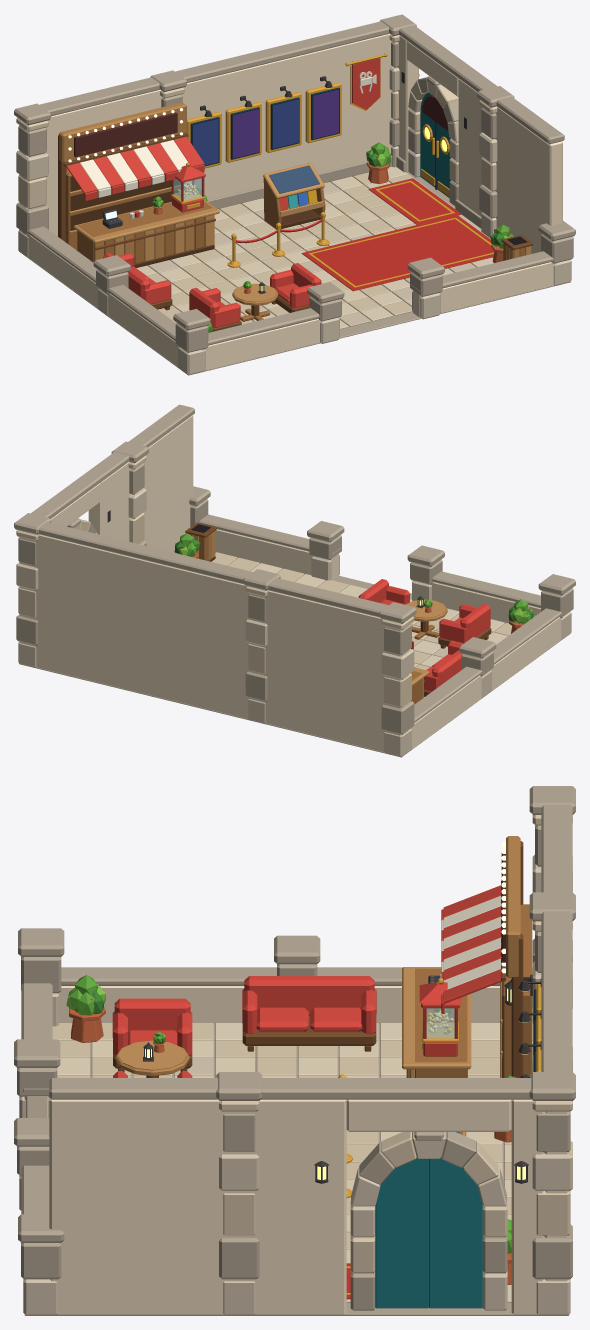
File: cinema_lobby.glb
The picture shows the model from 3 angles, top to bottom: view 1: azimuth 30°, elevation 25°; view 2: azimuth 150°, elevation 25°; view 3: azimuth 270°, elevation 25°; orthographic projection. The views are drawn at different scales.
Visible parts, largest first — view 1: cinema_lobby; view 2: cinema_lobby; view 3: cinema_lobby.
Boxes of the visible parts, box(x1,y1,x2,y2) form: cinema_lobby: box(14, 14, 575, 375); cinema_lobby: box(14, 404, 575, 757); cinema_lobby: box(14, 786, 575, 1315).
Size of the model in its own units: 8.76 by 3.06 by 6.81.
